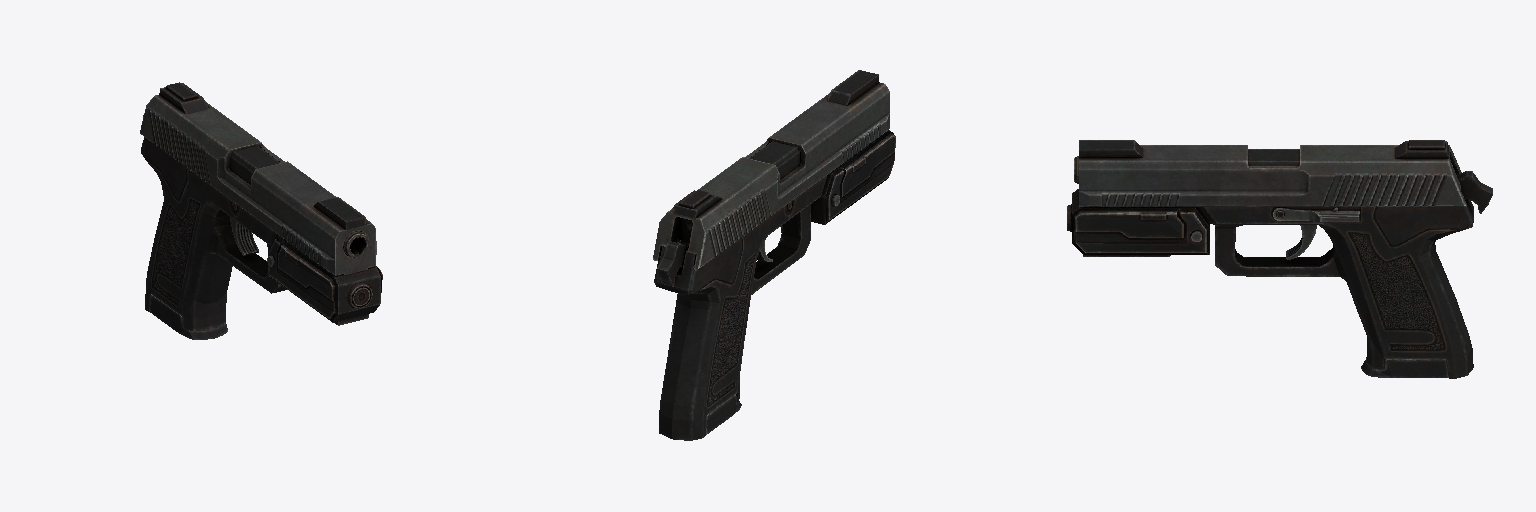
3 views of the same model, side by side, from view 1: azimuth 30°, elevation 25°; view 2: azimuth 150°, elevation 25°; view 3: azimuth 270°, elevation 25° (orthographic).
Parts seen in each view (by area): view 1: Pistol; view 2: Pistol; view 3: Pistol.
Part boxes in pixels (x1,y1,x2,y2): Pistol: (140,82,382,339); Pistol: (653,70,895,440); Pistol: (1067,140,1492,378).
Size of the model in its own units: 0.0961 by 0.3665 by 0.6308.
Materials: 1 (1 with a texture image).